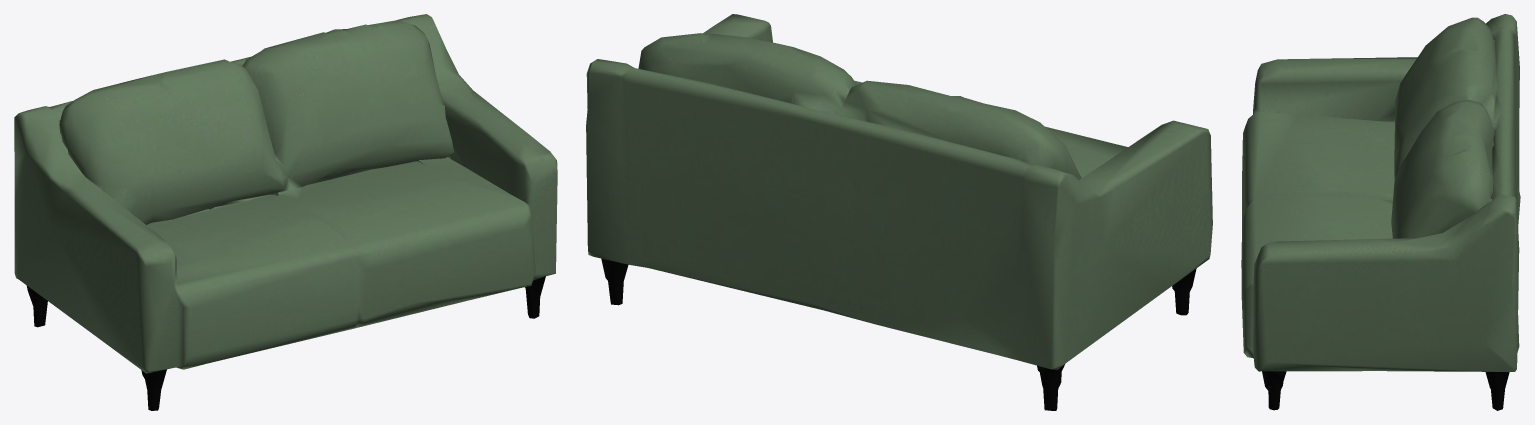
The model's file is 08 - GULLVALLA 2-seat sofa - Silkeryd grey-green.glb.
3 views of the same model, side by side, from view 1: azimuth 30°, elevation 25°; view 2: azimuth 150°, elevation 25°; view 3: azimuth 270°, elevation 25° (orthographic). The views are drawn at different scales.
Parts seen in each view (by area): view 1: ASY_ART_70613398_S01_NV01; view 2: ASY_ART_70613398_S01_NV01; view 3: ASY_ART_70613398_S01_NV01.
Part boxes in pixels (left/top/right/bottom): ASY_ART_70613398_S01_NV01: left=14, top=14, right=557, bottom=410; ASY_ART_70613398_S01_NV01: left=586, top=14, right=1212, bottom=410; ASY_ART_70613398_S01_NV01: left=1241, top=14, right=1520, bottom=410.
Bounding box in the file's own units: 1.43 × 0.7807 × 0.8478.
Materials: 1 (1 with a texture image).
